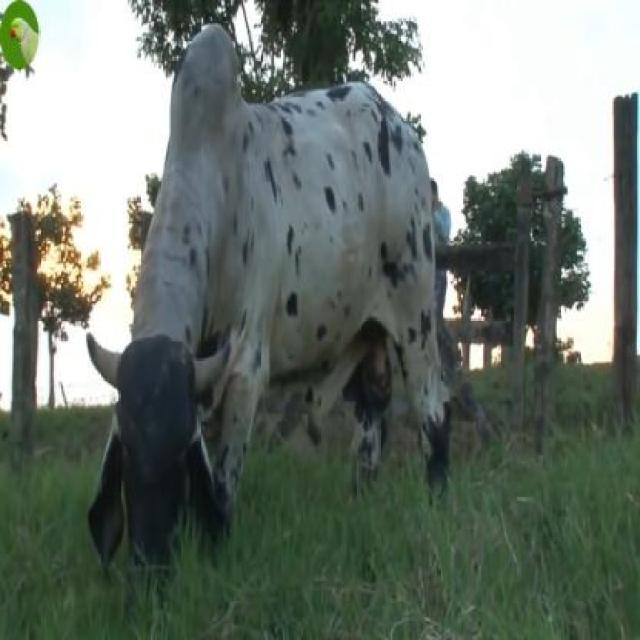Cow: (88, 26, 450, 586)
